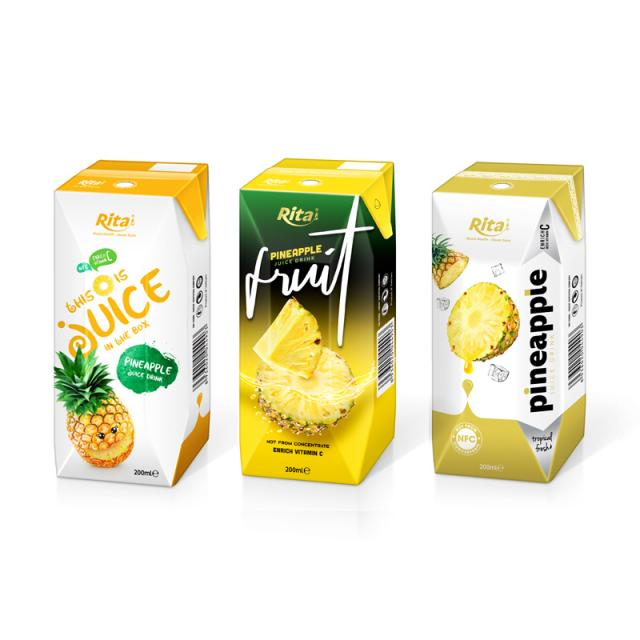non_white_jug: (223, 135, 406, 522), (416, 132, 596, 514), (38, 127, 208, 502)
